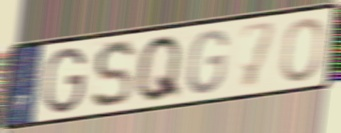7: (238, 19, 276, 93)
G: (42, 45, 88, 116), (185, 27, 230, 96)
O: (280, 15, 326, 85)
Q: (133, 32, 185, 105)
S: (90, 38, 137, 112)
